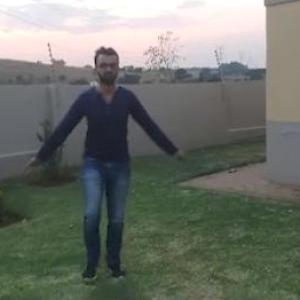land: (23, 41, 181, 285)
